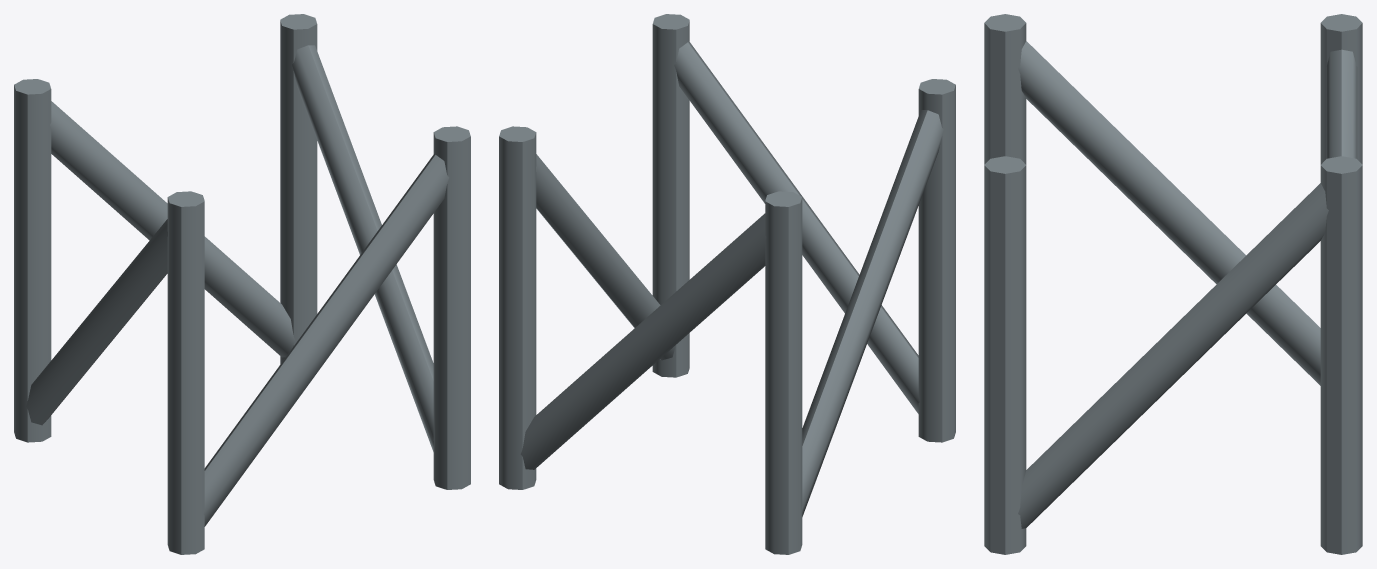
The model's file is structure_C.glb.
3 views of the same model, side by side, from view 1: azimuth 30°, elevation 25°; view 2: azimuth 150°, elevation 25°; view 3: azimuth 270°, elevation 25° (orthographic). The views are drawn at different scales.
Visible parts, largest first — view 1: structure_C; view 2: structure_C; view 3: structure_C.
Part boxes in pixels (box(x1,y1,x2,y2)): structure_C: box(14, 14, 470, 554); structure_C: box(499, 14, 955, 554); structure_C: box(984, 14, 1362, 554).
Size of the model in its own units: 1.8 by 2 by 1.8.
Materials: 1 (1 with a texture image).
